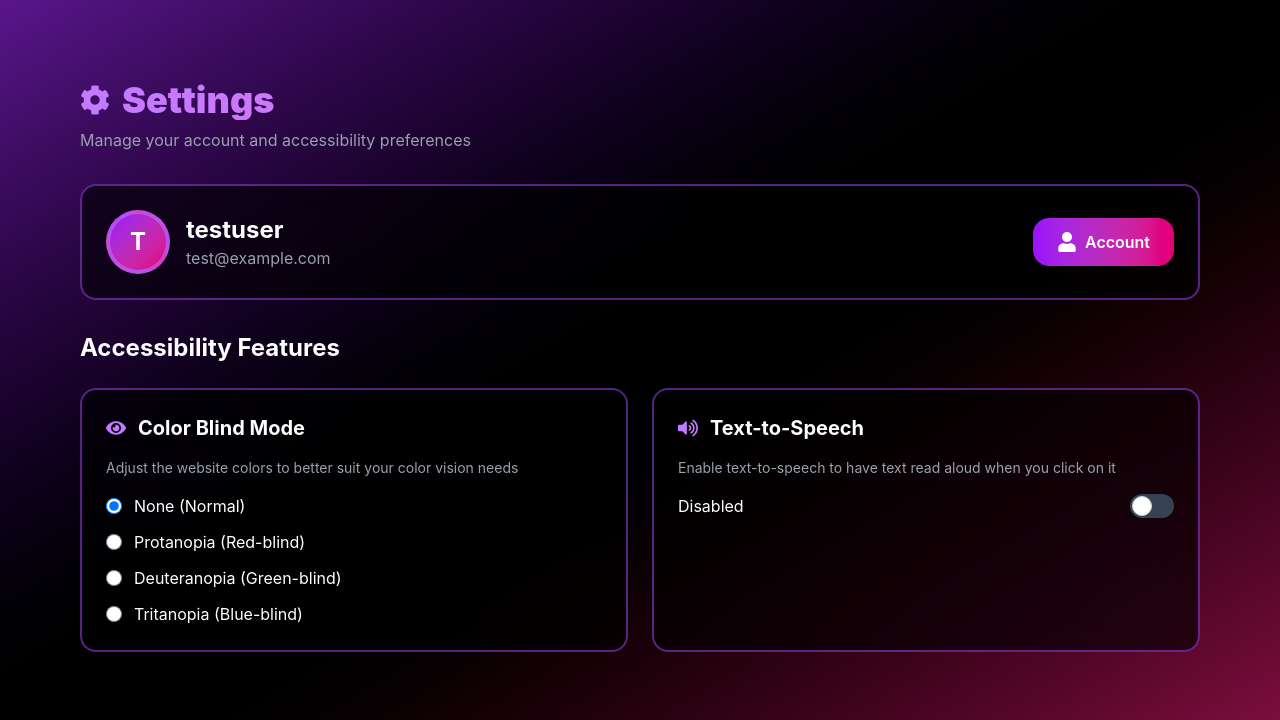
Test: Settings Component › Text-to-Speech › updates status text when toggled
expect the text "Disabled" is shown: met, box [678, 494, 744, 518]
Click the checkbox.
click(1152, 506)  # box [1130, 494, 1174, 518]
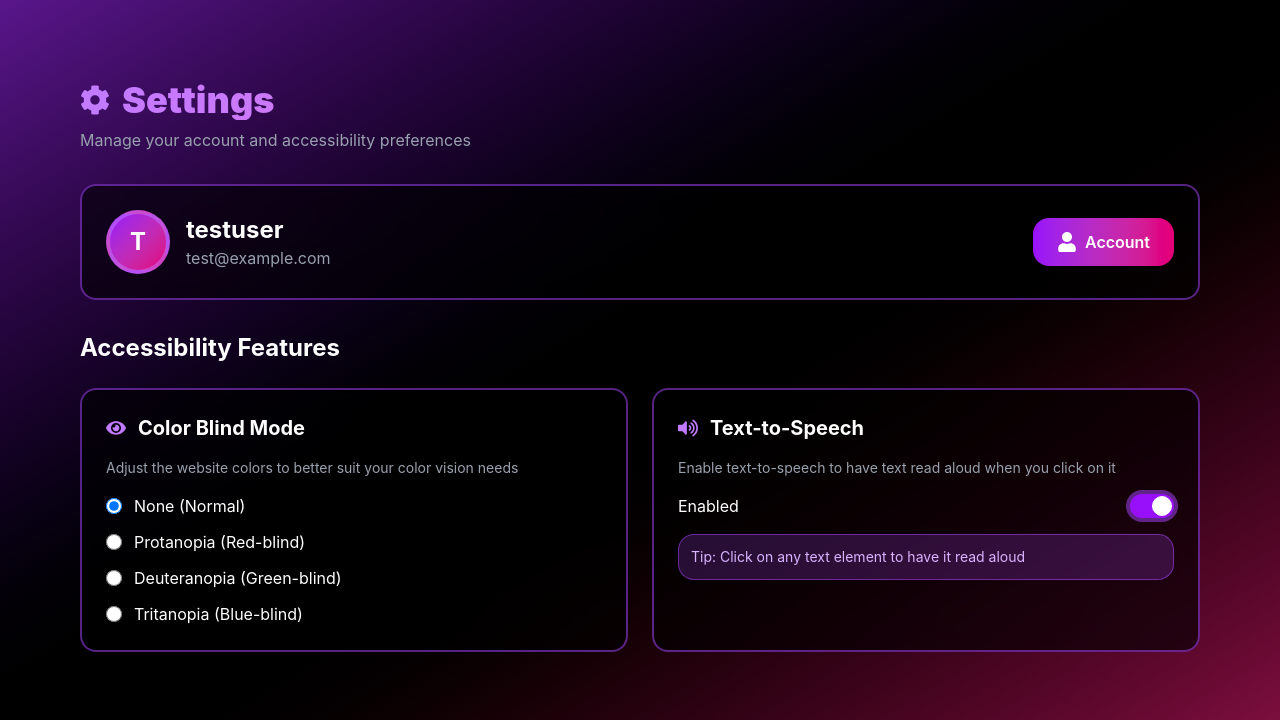
expect the text "Enabled" is shown: met, box [678, 494, 739, 518]
Click the checkbox.
click(1152, 506)  # box [1130, 494, 1174, 518]
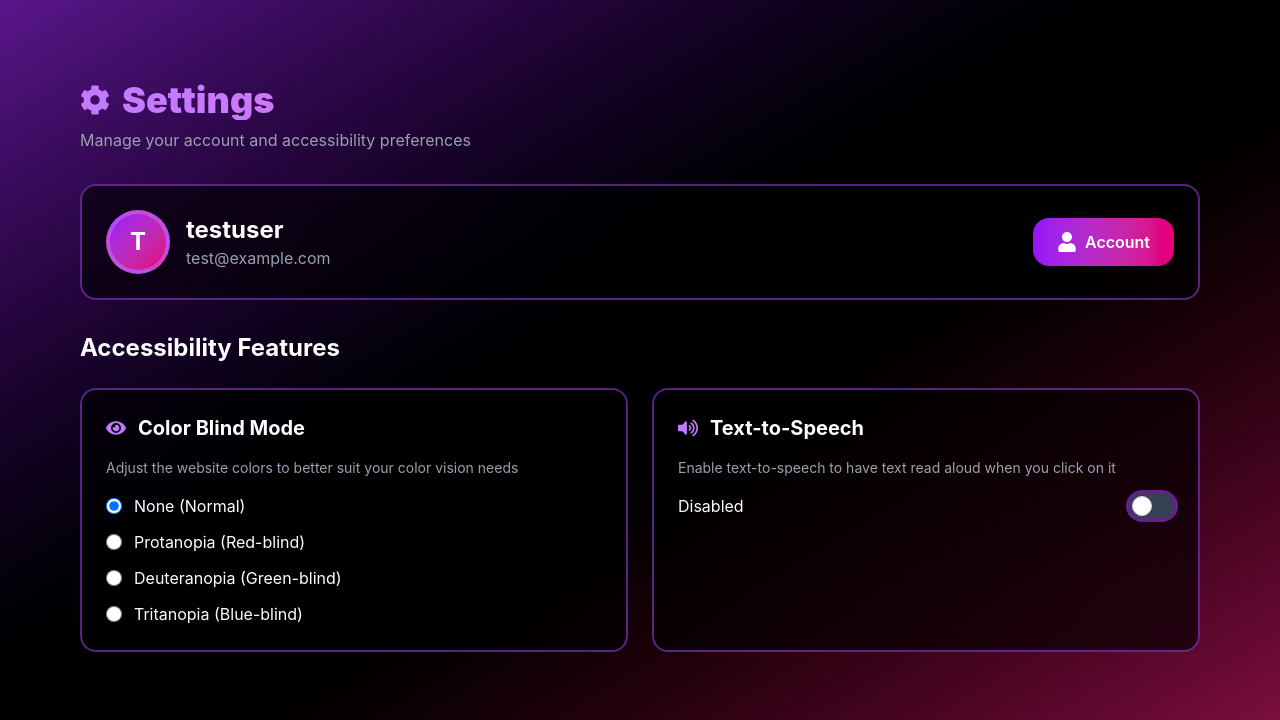
expect the text "Disabled" is shown: met, box [678, 494, 744, 518]
